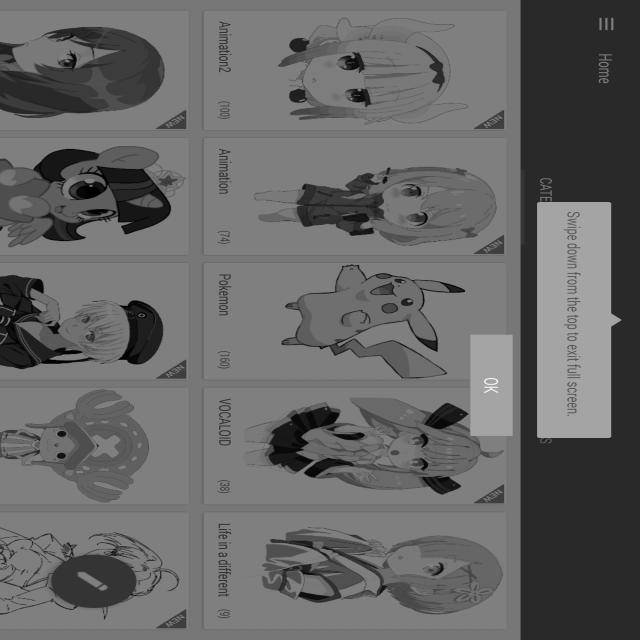ImageButton: (9, 0, 68, 43)
ImageView: (19, 85, 206, 248), (19, 284, 206, 447), (223, 85, 406, 248), (223, 284, 406, 447), (423, 85, 605, 248), (423, 284, 605, 447), (622, 85, 640, 248), (622, 284, 640, 447), (174, 84, 208, 105), (374, 84, 408, 105), (174, 283, 208, 304), (574, 283, 608, 304)
TextView: (238, 250, 366, 270), (34, 250, 160, 270), (438, 250, 559, 270), (284, 52, 378, 65), (85, 14, 134, 29), (549, 52, 595, 65), (162, 250, 191, 270), (561, 250, 590, 270), (368, 250, 391, 270), (434, 52, 468, 65), (637, 250, 640, 270)
